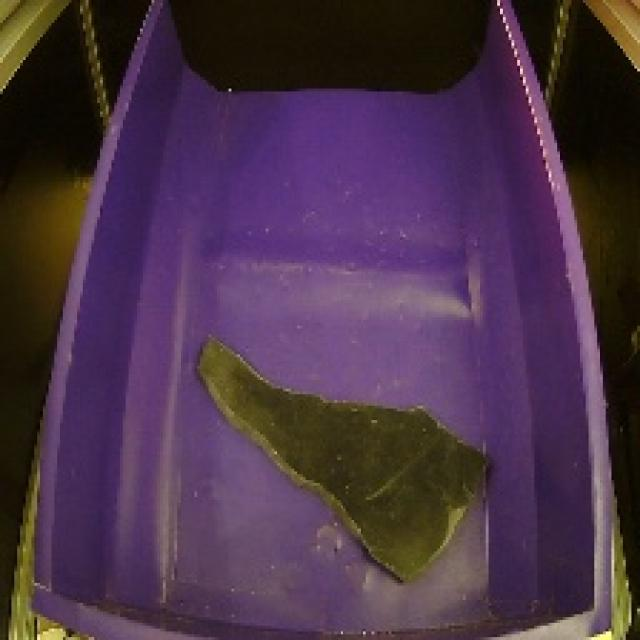china: (184, 320, 503, 588)
